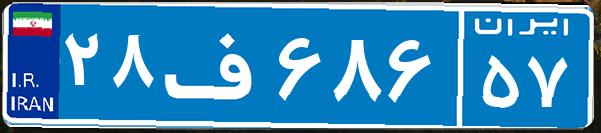2: (57, 26, 110, 107)
5: (475, 38, 525, 113)
6: (385, 28, 445, 110), (273, 28, 330, 110)
7: (525, 38, 570, 115)
8: (330, 28, 385, 110), (110, 28, 158, 105)
ف: (158, 15, 273, 115)
